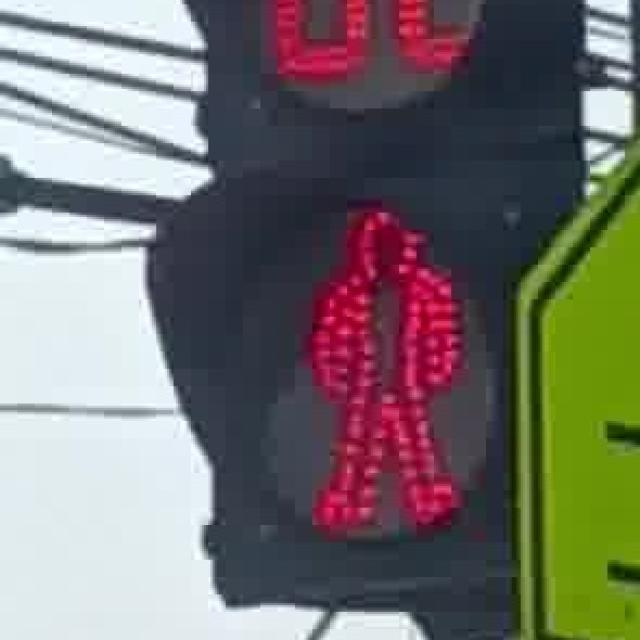red-crossing: (280, 188, 471, 542)
